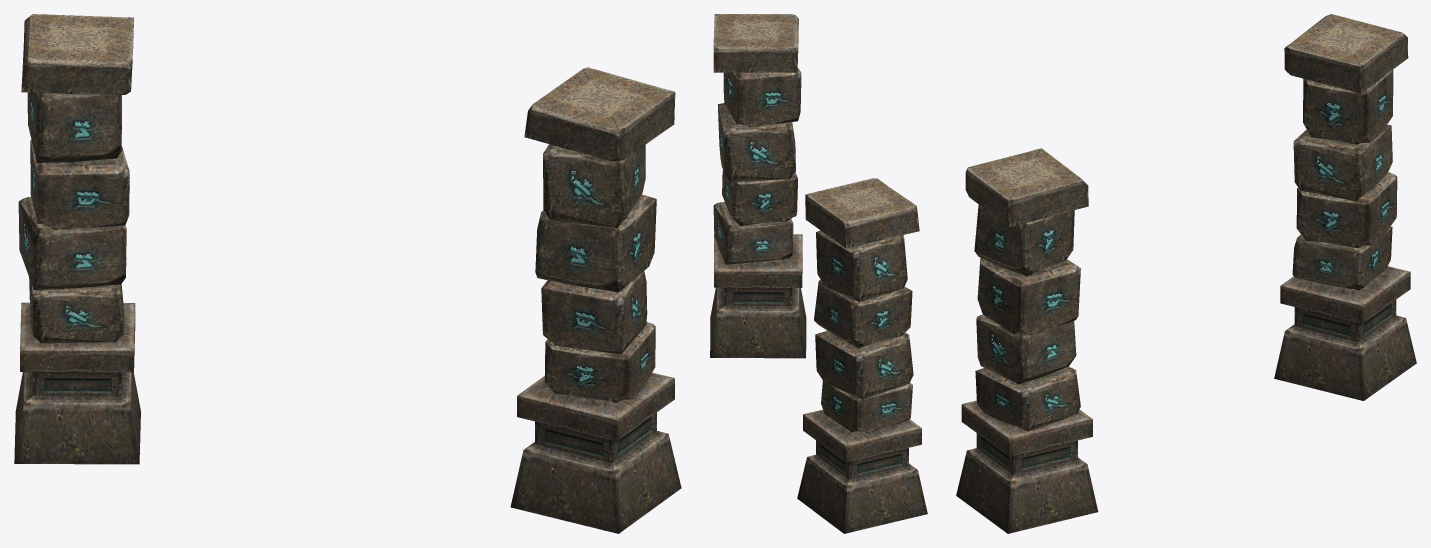
File: miniboss_07.glb
3 renders of one model, left to right at view 1: azimuth 30°, elevation 25°; view 2: azimuth 150°, elevation 25°; view 3: azimuth 270°, elevation 25°, orthographic. The views are drawn at different scales.
Visible parts, largest first — view 1: miniboss_07; view 2: miniboss_07; view 3: miniboss_07.
Boxes of the visible parts, box(x1,y1,x2,y2) form: miniboss_07: box(14, 14, 681, 533); miniboss_07: box(710, 14, 927, 533); miniboss_07: box(956, 14, 1416, 533).
Bounding box in the file's own units: 49.35 × 39.74 × 49.76.
Materials: 1 (1 with a texture image).
